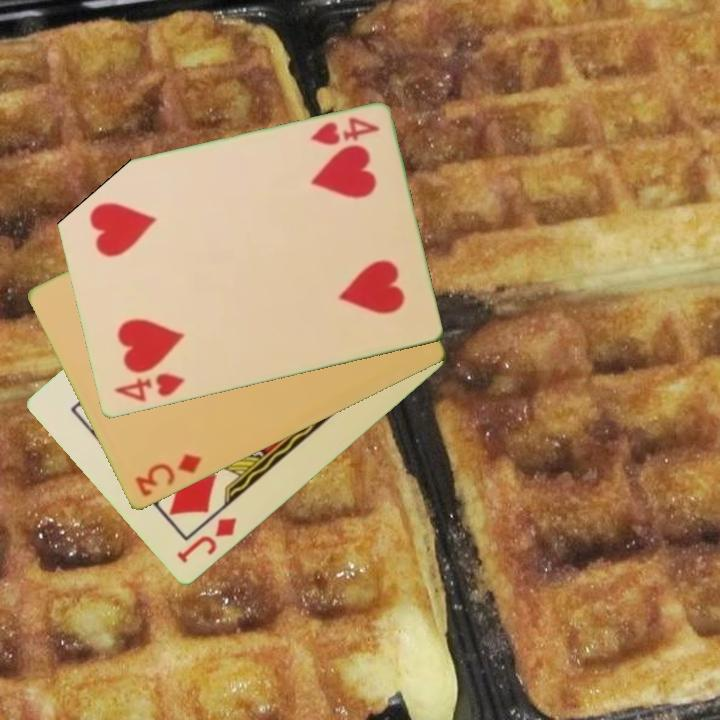3d: (131, 450, 205, 501)
4h: (110, 370, 187, 406), (307, 114, 383, 149)
Jd: (173, 514, 240, 567)
